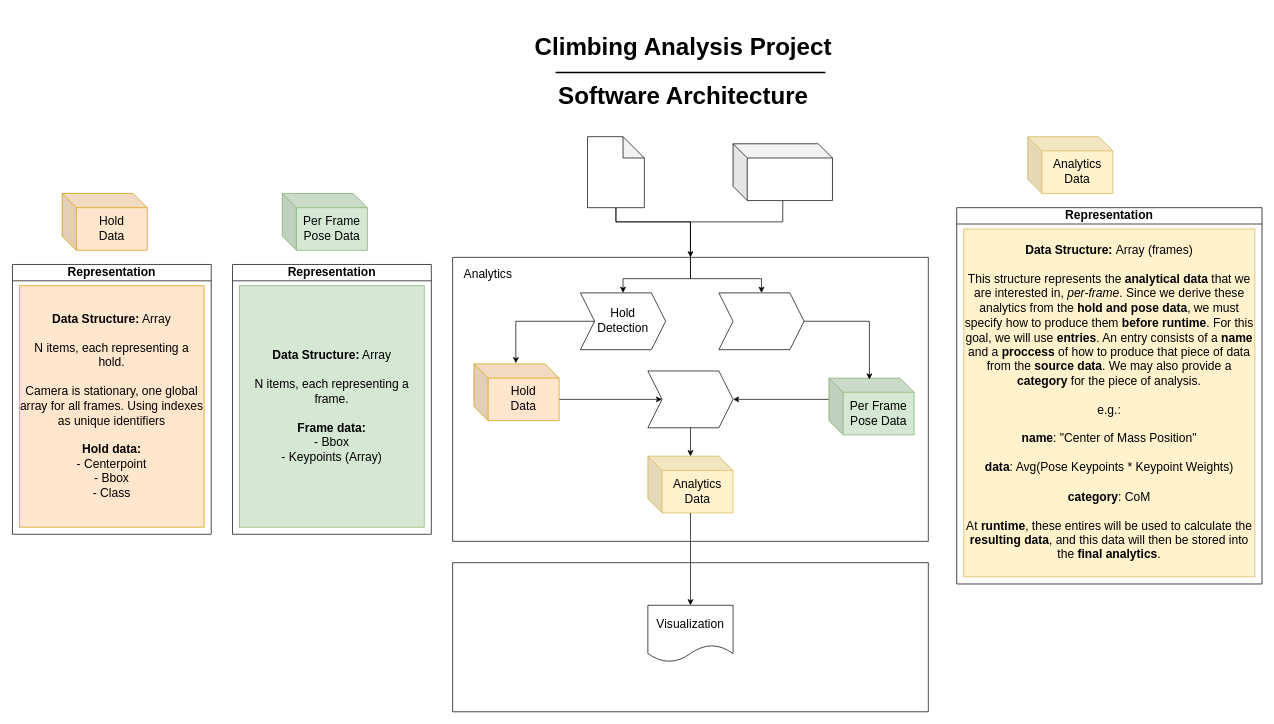
Some shapes in this 1274 by 724 pixel diagram are drawn without their labels. Each missing label, with the centre of its shape:
"Input Video" belongs at [615,172].
"Pose Detection" belongs at [761,321].
"Produce Analytics" belongs at [690,399].
"UI" belongs at [690,637].
"User specified entries" belongs at [782,172].
